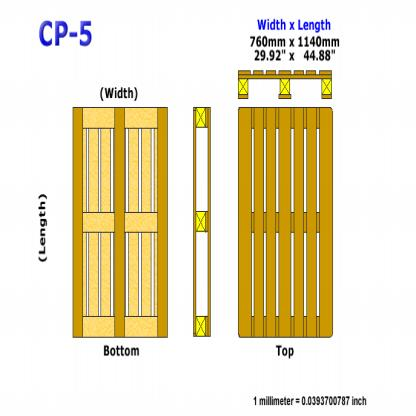BoxFace: (235, 103, 335, 342), (71, 103, 170, 342), (191, 105, 213, 340), (235, 65, 335, 106)
